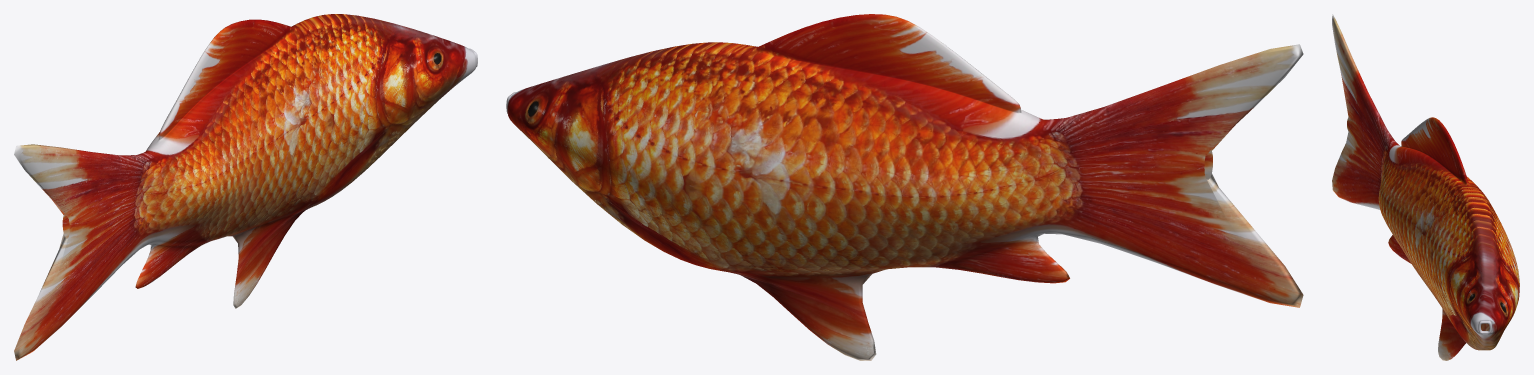
The model's file is goldfish.gltf.
3 views of the same model, side by side, from view 1: azimuth 30°, elevation 25°; view 2: azimuth 150°, elevation 25°; view 3: azimuth 270°, elevation 25° (orthographic). The views are drawn at different scales.
Parts seen in each view (by area): view 1: Cube; view 2: Cube; view 3: Cube.
Boxes of the visible parts, x1=… form: Cube: x1=14, y1=14, x2=477, y2=360; Cube: x1=506, y1=14, x2=1303, y2=360; Cube: x1=1332, y1=14, x2=1519, y2=360.
Size of the model in its own units: 1.82 by 0.8932 by 0.6515.
Materials: 1 (1 with a texture image).
